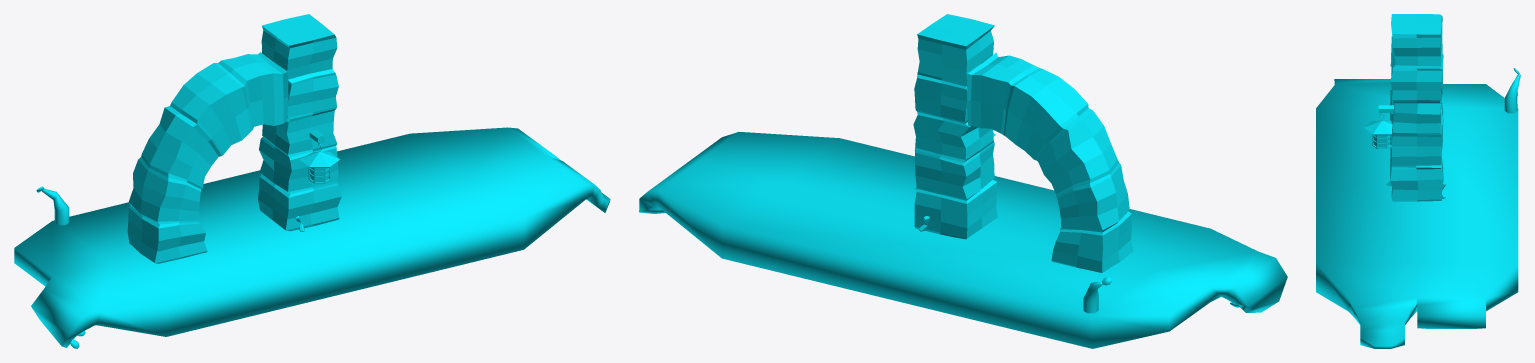
Rendered from ForestSharper.fbx.
3 views of the same model, side by side, from view 1: azimuth 30°, elevation 25°; view 2: azimuth 150°, elevation 25°; view 3: azimuth 270°, elevation 25° (orthographic). The views are drawn at different scales.
Visible parts, largest first — view 1: PlatformWood, RuinArched, LampRusty; view 2: PlatformWood, RuinArched; view 3: PlatformWood, RuinArched, LampRusty.
Boxes of the visible parts, box(x1,y1,x2,y2) form: PlatformWood: box(14, 127, 610, 348); RuinArched: box(127, 14, 341, 263); LampRusty: box(299, 129, 339, 183); PlatformWood: box(639, 132, 1287, 348); RuinArched: box(913, 14, 1133, 272); PlatformWood: box(1316, 68, 1520, 348); RuinArched: box(1390, 14, 1443, 201); LampRusty: box(1364, 105, 1393, 148).
Size of the model in its own units: 570 by 226 by 203.
